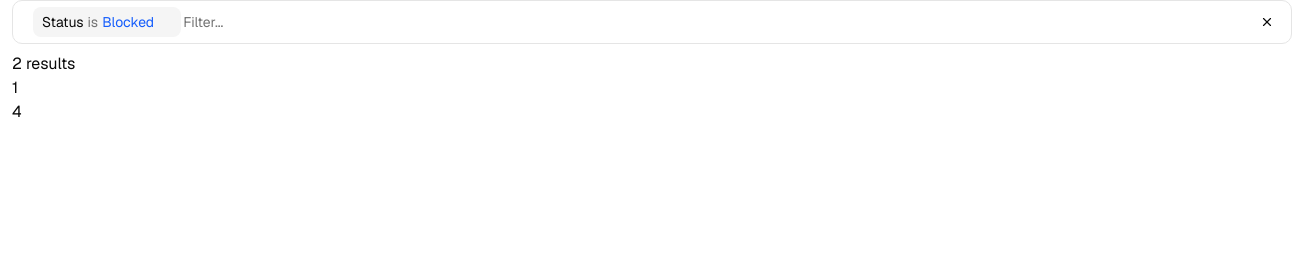
Filter Flow Integration › operator change: switch from 'is' to 'is not' updates filtered results
Expected: the text "Status" is shown, [42,12,84,32]
Expected: the text with test id "result-count" reads "2 results", [12,53,75,74]
Click the button with aria-label "Change Status operator" at {"x": 93, "y": 22}, box [88,12,98,32]
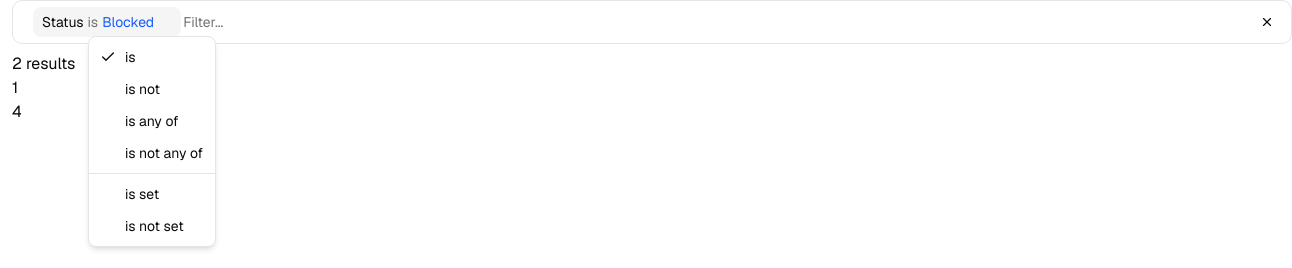
Click the menu item "is not" at {"x": 143, "y": 89}, box [125,80,160,98]
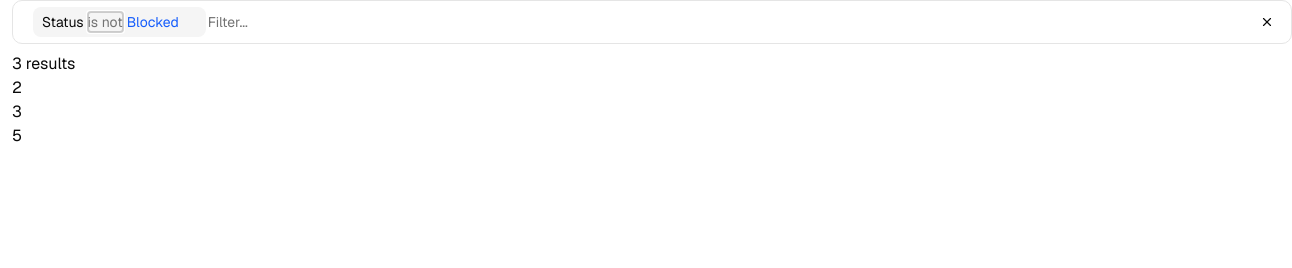
Expected: the text with test id "result-count" reads "3 results", [12,53,75,74]
